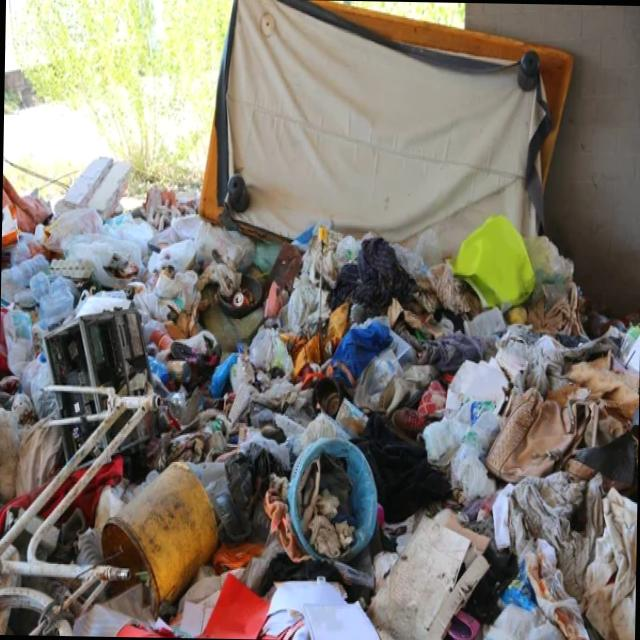garbage: (0, 26, 589, 634)
